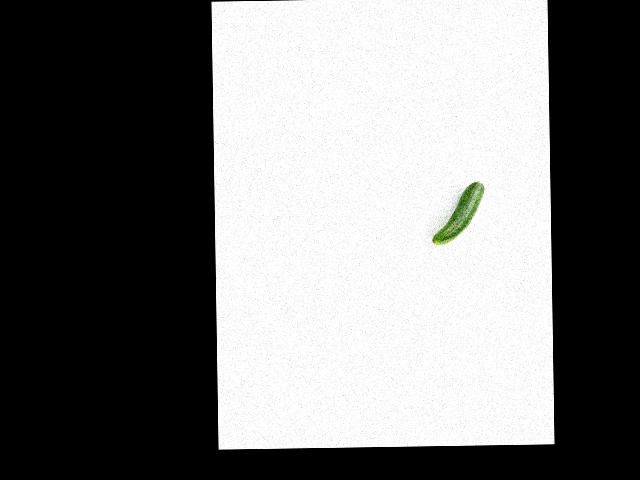cucumber: (431, 181, 484, 244)
